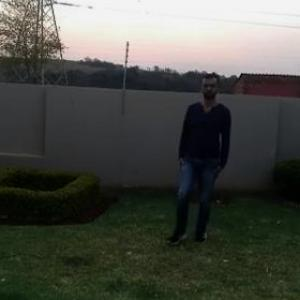follow: (174, 72, 231, 246)
